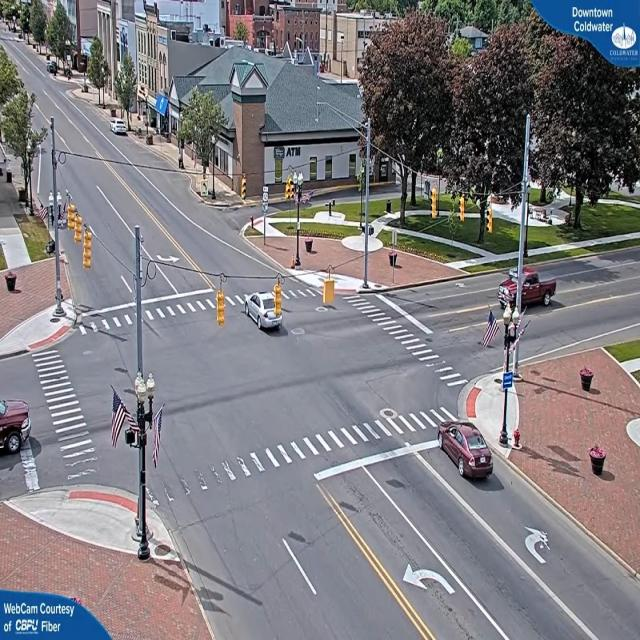car: (439, 422, 494, 483), (500, 274, 560, 318), (244, 292, 282, 328), (111, 120, 129, 136)
